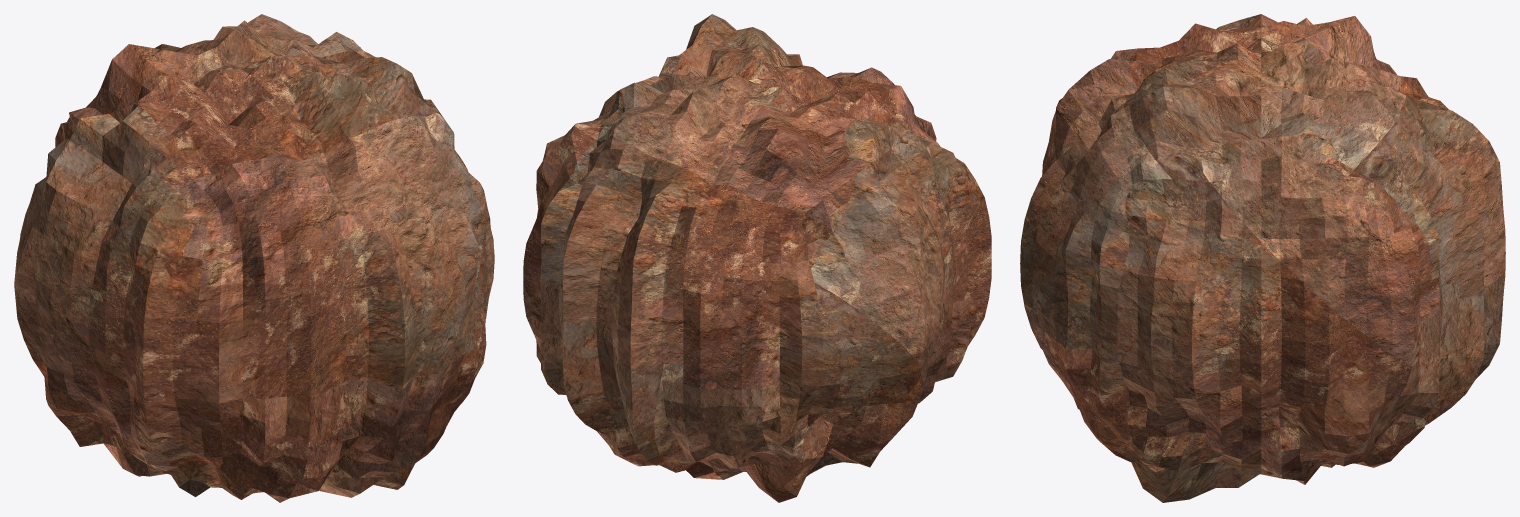
The model's file is asteroid73.obj.
3 renders of one model, left to right at view 1: azimuth 30°, elevation 25°; view 2: azimuth 150°, elevation 25°; view 3: azimuth 270°, elevation 25°, orthographic. The views are drawn at different scales.
Parts seen in each view (by area): view 1: Cube_Cube.002; view 2: Cube_Cube.002; view 3: Cube_Cube.002.
Boxes of the visible parts, box(x1,y1,x2,y2) form: Cube_Cube.002: box(14, 14, 494, 502); Cube_Cube.002: box(523, 14, 991, 502); Cube_Cube.002: box(1020, 14, 1505, 502).
Size of the model in its own units: 1.7 by 1.69 by 1.77.
